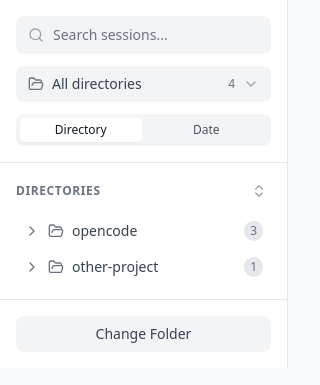
Scenario: SessionBrowser › search input › shows clear button when searching
// Type in search
In the field with placeholder "Search sessions...": (144, 35) [16,16,271,54], type "test"
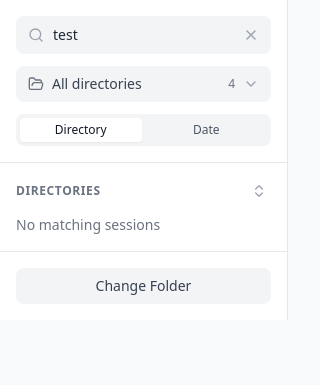
Check: the button named "Clear search" is shown
// Click clear
Click the button named "Clear search": (251, 35) [239,23,263,47]
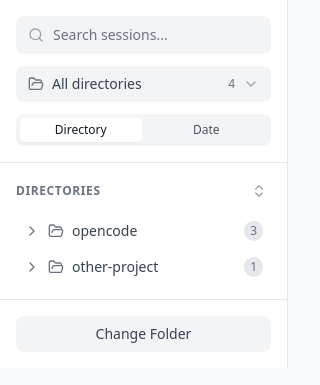
Check: the field with placeholder "Search sessions..." is empty, box [16,16,271,54]
